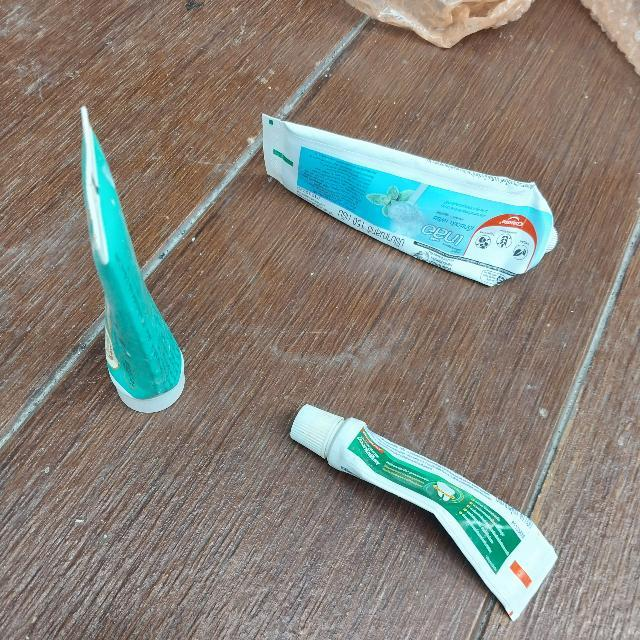Squeeze Tube: (274, 395, 573, 633), (257, 105, 565, 297), (69, 96, 203, 424)
